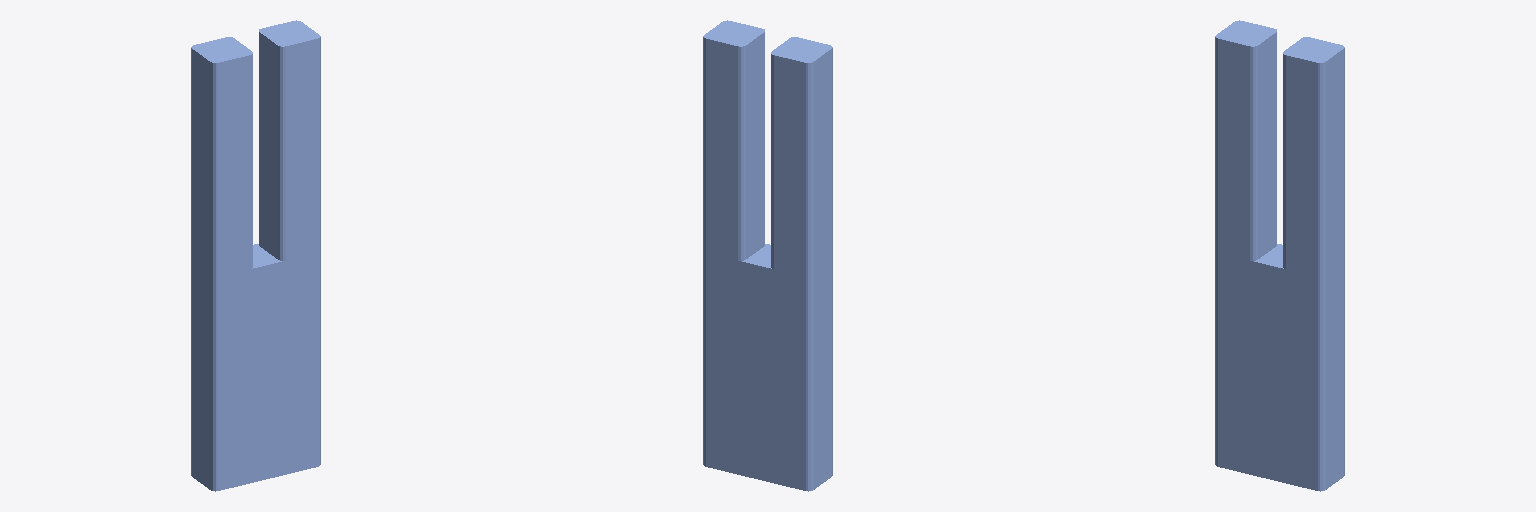
URDF robot description (Small_Long_DoubleSquare_JeansBlue):
<?xml version="1.0"?>
<robot name="Small_Long_DoubleSquare_JeansBlue">
    <link name="Small_Long_DoubleSquare_JeansBlue">
        <visual>
            <geometry>
                <mesh filename="../mesh/factory_insertion/Small_Long_DoubleSquare_JeansBlue.obj" scale="0.001 0.001 0.001"/>
            </geometry>
            <material name="JeansBlue">
              <color rgba="0.65 0.75 0.95 0"/>
            </material>
        </visual>
        <collision>
            <geometry>
                <mesh filename="../mesh/factory_insertion/Small_Long_DoubleSquare_JeansBlue.obj" scale="0.001 0.001 0.001"/>
            </geometry>
            <sdf resolution="512"/>
        </collision>
    </link>
</robot>

--- What the picture shows (computed from the rendered views, not written in the file) ---
The picture shows the robot from 3 angles, left to right: view 1: azimuth 30°, elevation 25°; view 2: azimuth 150°, elevation 25°; view 3: azimuth 330°, elevation 25°; orthographic projection.
Model Small_Long_DoubleSquare_JeansBlue with 1 links and 0 joints (none), rooted at Small_Long_DoubleSquare_JeansBlue, posed every joint at zero.
Visible links, largest first — view 1: Small_Long_DoubleSquare_JeansBlue; view 2: Small_Long_DoubleSquare_JeansBlue; view 3: Small_Long_DoubleSquare_JeansBlue.
Link boxes in pixels (bbox=[...]): Small_Long_DoubleSquare_JeansBlue: bbox=[191, 20, 320, 491]; Small_Long_DoubleSquare_JeansBlue: bbox=[703, 20, 832, 491]; Small_Long_DoubleSquare_JeansBlue: bbox=[1215, 20, 1344, 491].
Size in the robot's own frame: 0.0402 by 0.0154 by 0.15 metres.
1 mesh visuals loaded from 1 distinct referenced files (1 OBJ).
